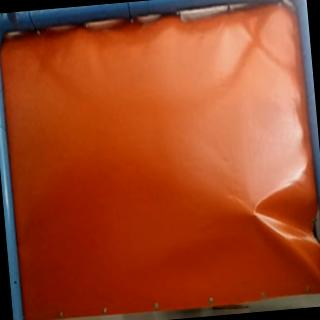Hit-hRxx: (246, 206, 264, 223)
